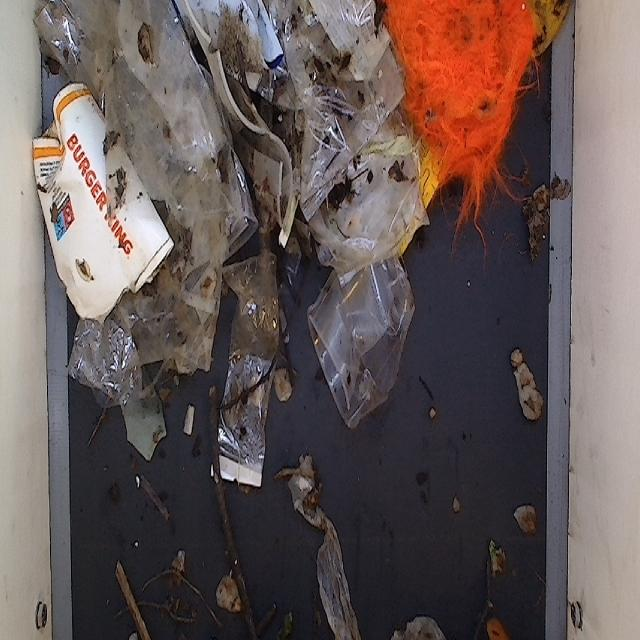food_packaging: (31, 80, 173, 327)
outside_classes: (396, 0, 575, 167)
plastic_cups: (307, 218, 411, 418)
plastic_films: (50, 0, 254, 310), (260, 1, 422, 249), (227, 245, 281, 474), (62, 290, 148, 408)
